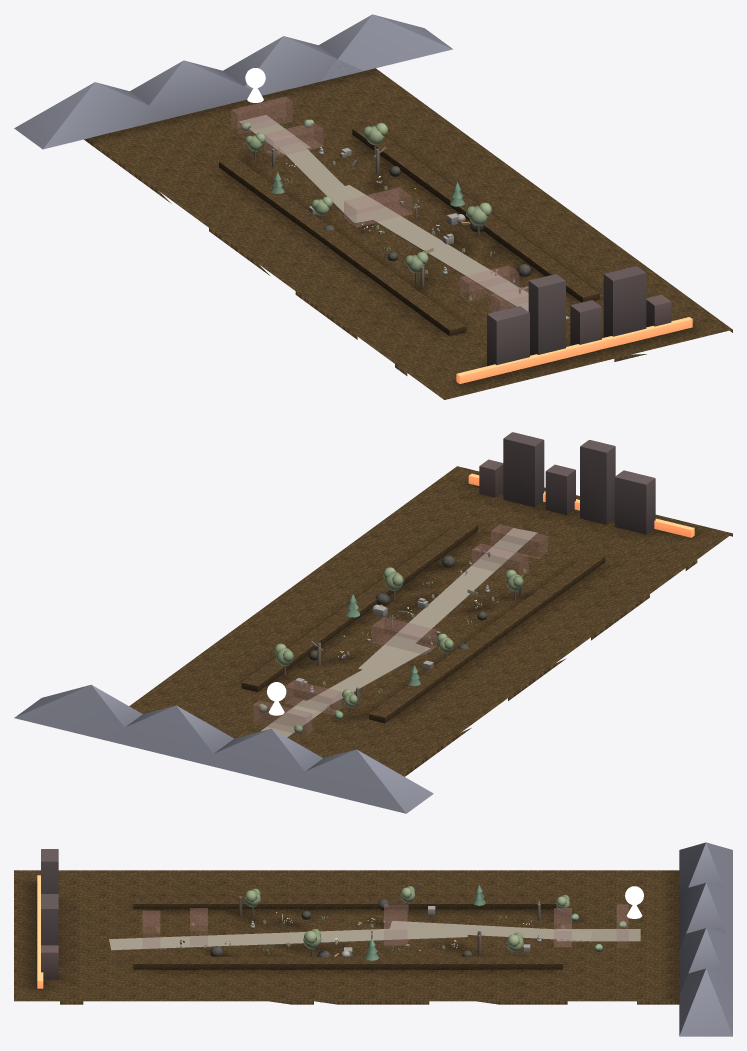
Rendered from wilderness_road.glb.
The picture shows the model from 3 angles, top to bottom: view 1: azimuth 30°, elevation 25°; view 2: azimuth 150°, elevation 25°; view 3: azimuth 270°, elevation 25°; orthographic projection. The views are drawn at different scales.
Parts seen in each view (by area): view 1: ENV_Wilderness_Ground, VIS_PROP_DistantRidge (×4), VIS_PROP_CityBackdrop (×6), PROP_Berm_Right, PROP_Berm_Left, ENV_Wilderness_NarrowRoad, ENV_Wilderness_RoadBend, TRIGGER_CityVoices, TRIGGER_Exit_SloughOfDespond, TRIGGER_FixEyesOnLight, TRIGGER_PliableRoadDialogue, ENV_Wilderness_RoadSlope (+1 smaller); view 2: ENV_Wilderness_Ground, VIS_PROP_DistantRidge (×4), VIS_PROP_CityBackdrop (×6), PROP_Berm_Right, ENV_Wilderness_NarrowRoad, PROP_Berm_Left, ENV_Wilderness_RoadBend, TRIGGER_CityVoices, TRIGGER_FixEyesOnLight, TRIGGER_ObstinateReturns, TRIGGER_Exit_SloughOfDespond, TRIGGER_PliableRoadDialogue (+1 smaller); view 3: ENV_Wilderness_Ground, VIS_PROP_DistantRidge (×4), PROP_Berm_Left, PROP_Berm_Right, ENV_Wilderness_NarrowRoad, VIS_PROP_CityBackdrop (×4), ENV_Wilderness_RoadBend, TRIGGER_CityVoices, ENV_Wilderness_RoadSlope, TRIGGER_FixEyesOnLight, TRIGGER_PliableRoadDialogue, TRIGGER_ObstinateReturns (+1 smaller).
Part boxes in pixels (bbox=[...]): ENV_Wilderness_Ground: bbox=[84, 68, 732, 399]; VIS_PROP_DistantRidge (×4): bbox=[14, 14, 452, 149]; VIS_PROP_CityBackdrop (×6): bbox=[456, 266, 692, 383]; PROP_Berm_Right: bbox=[219, 157, 466, 335]; PROP_Berm_Left: bbox=[352, 125, 599, 302]; ENV_Wilderness_NarrowRoad: bbox=[326, 185, 569, 319]; ENV_Wilderness_RoadBend: bbox=[269, 134, 372, 223]; TRIGGER_CityVoices: bbox=[344, 187, 411, 227]; TRIGGER_Exit_SloughOfDespond: bbox=[231, 96, 292, 133]; TRIGGER_FixEyesOnLight: bbox=[264, 122, 323, 157]; TRIGGER_PliableRoadDialogue: bbox=[460, 265, 518, 300]; ENV_Wilderness_RoadSlope: bbox=[238, 115, 310, 154]; ENV_Wilderness_Ground: bbox=[129, 466, 732, 776]; VIS_PROP_DistantRidge (×4): bbox=[14, 684, 433, 813]; VIS_PROP_CityBackdrop (×6): bbox=[468, 432, 694, 537]; PROP_Berm_Right: bbox=[369, 552, 605, 723]; ENV_Wilderness_NarrowRoad: bbox=[358, 528, 537, 673]; PROP_Berm_Left: bbox=[241, 521, 478, 692]; ENV_Wilderness_RoadBend: bbox=[286, 643, 430, 718]; TRIGGER_CityVoices: bbox=[372, 617, 436, 654]; TRIGGER_FixEyesOnLight: bbox=[285, 680, 341, 714]; TRIGGER_ObstinateReturns: bbox=[491, 524, 547, 558]; TRIGGER_Exit_SloughOfDespond: bbox=[253, 700, 311, 736]; TRIGGER_PliableRoadDialogue: bbox=[472, 543, 528, 575]; ENV_Wilderness_Ground: bbox=[14, 870, 679, 1004]; VIS_PROP_DistantRidge (×4): bbox=[679, 842, 732, 1036]; PROP_Berm_Left: bbox=[133, 956, 562, 969]; PROP_Berm_Right: bbox=[133, 896, 559, 909]; ENV_Wilderness_NarrowRoad: bbox=[109, 926, 467, 950]; VIS_PROP_CityBackdrop (×4): bbox=[37, 849, 58, 988]; ENV_Wilderness_RoadBend: bbox=[390, 921, 593, 941]; TRIGGER_CityVoices: bbox=[384, 904, 407, 945]; ENV_Wilderness_RoadSlope: bbox=[557, 929, 640, 941]; TRIGGER_FixEyesOnLight: bbox=[554, 908, 571, 946]; TRIGGER_PliableRoadDialogue: bbox=[190, 908, 207, 945]; TRIGGER_ObstinateReturns: bbox=[142, 911, 159, 948].
Size of the model in its own units: 74 by 13.6 by 120.
Materials: 65 (3 with a texture image).
